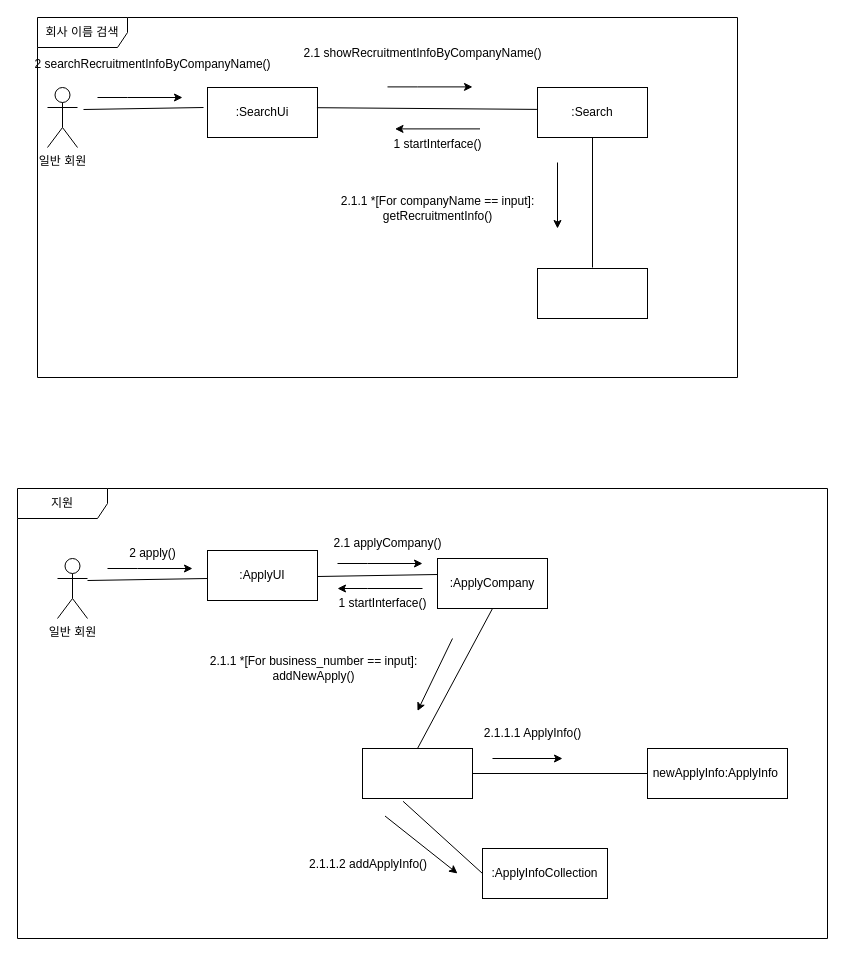
Image size: 845x956. Some labels were removed from this diagram. The centre of each missing label's shape, as x and y in pixels:
:AllRecruit???: point (592, 293)
:RecruitmentInfo: point (417, 773)
